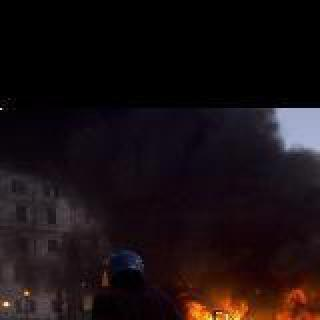fire: (130, 108, 320, 316), (172, 268, 320, 320)
